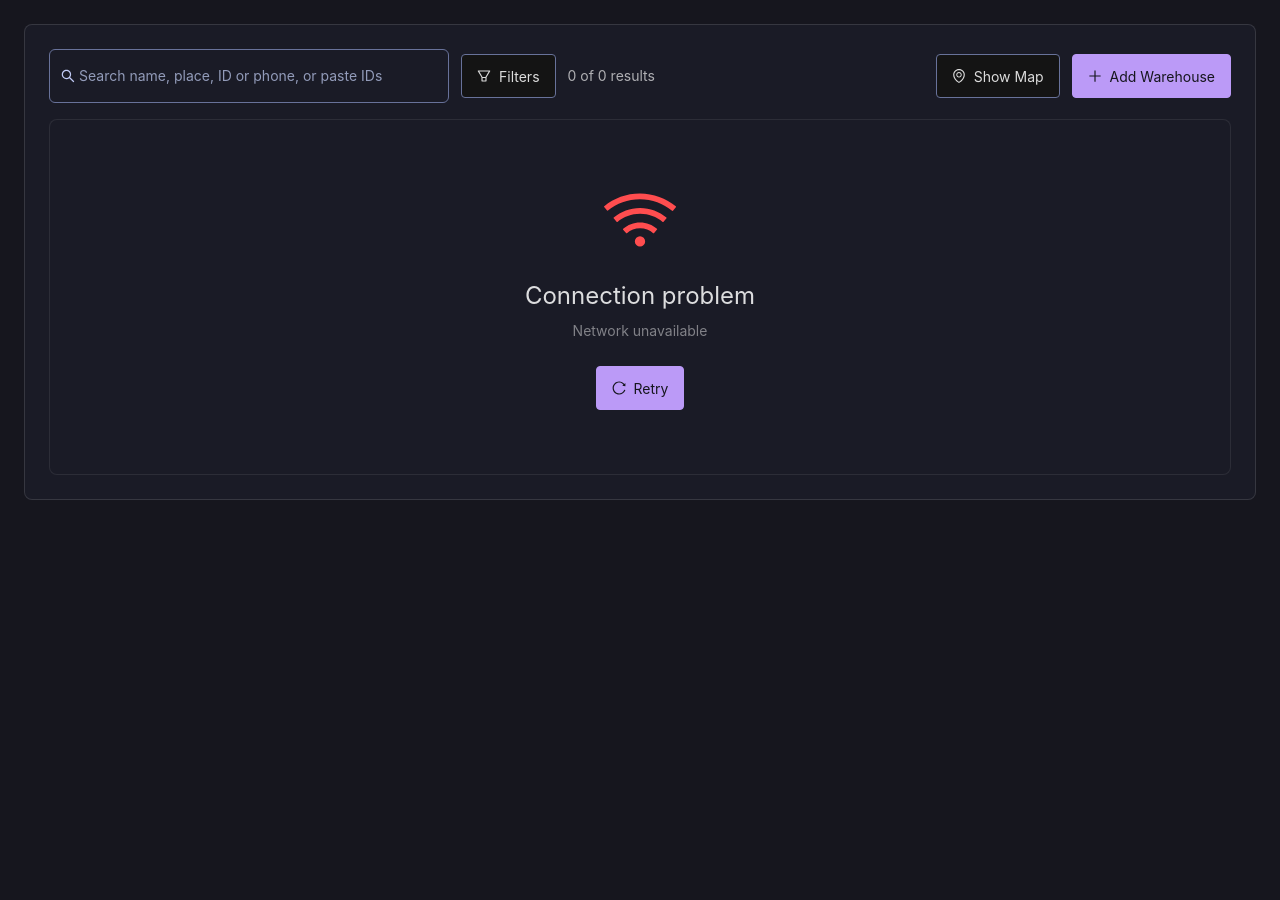
Test: Dashboard current list contract › retries a failed first load and restores the list
This screenshot has width=1280, height=900.
Expected: the text "Connection problem" is shown, [525,281,755,310]
Click the button "Retry".
click(640, 388)  # box [596,366,684,410]
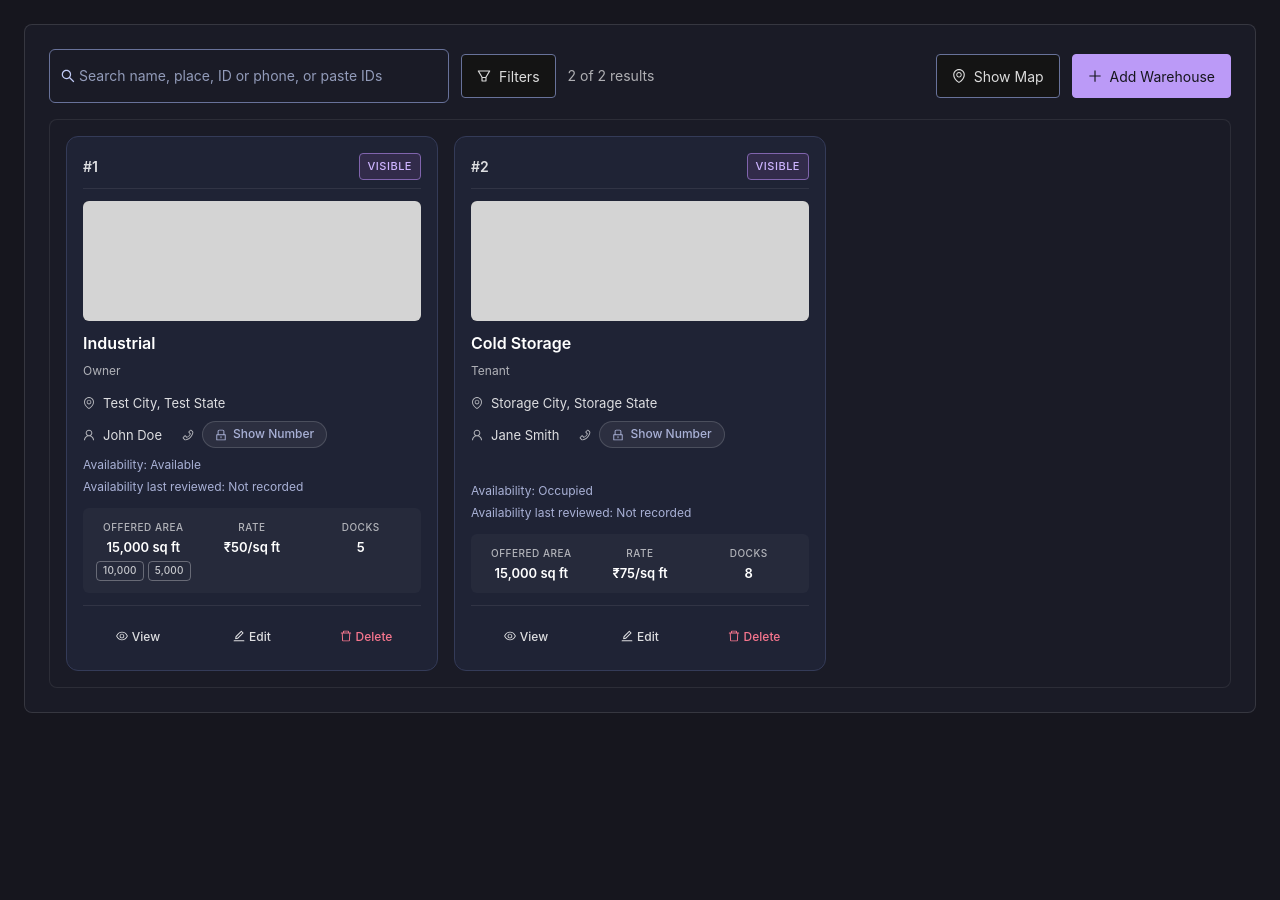
Expected: the text "Connection problem" is gone
